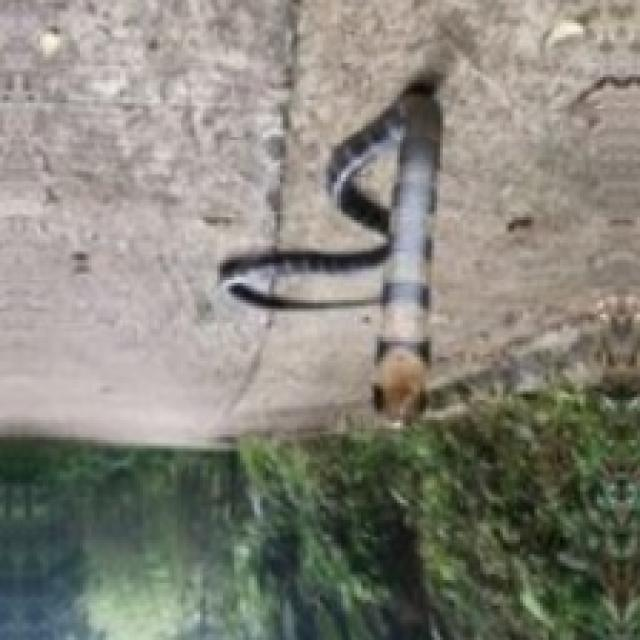king cobra: (220, 74, 440, 420)
